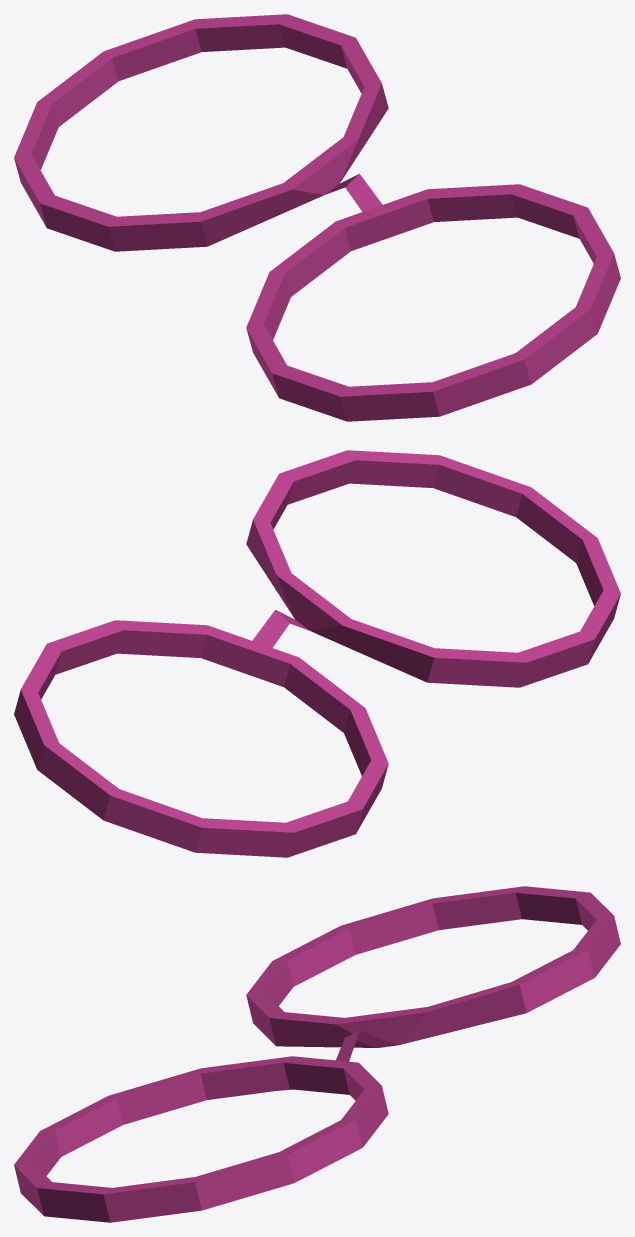
The model's file is glasses.fbx.
3 views of the same model, one above another, from view 1: azimuth 30°, elevation 25°; view 2: azimuth 150°, elevation 25°; view 3: azimuth 330°, elevation 25° (orthographic).
Parts seen in each view (by area): view 1: glasses; view 2: glasses; view 3: glasses.
Boxes of the visible parts, <box> form: glasses: <box>14,14,620,421</box>; glasses: <box>14,450,620,857</box>; glasses: <box>14,886,620,1222</box>.
Bounding box in the file's own units: 0.3521 × 0.1201 × 0.7956.
